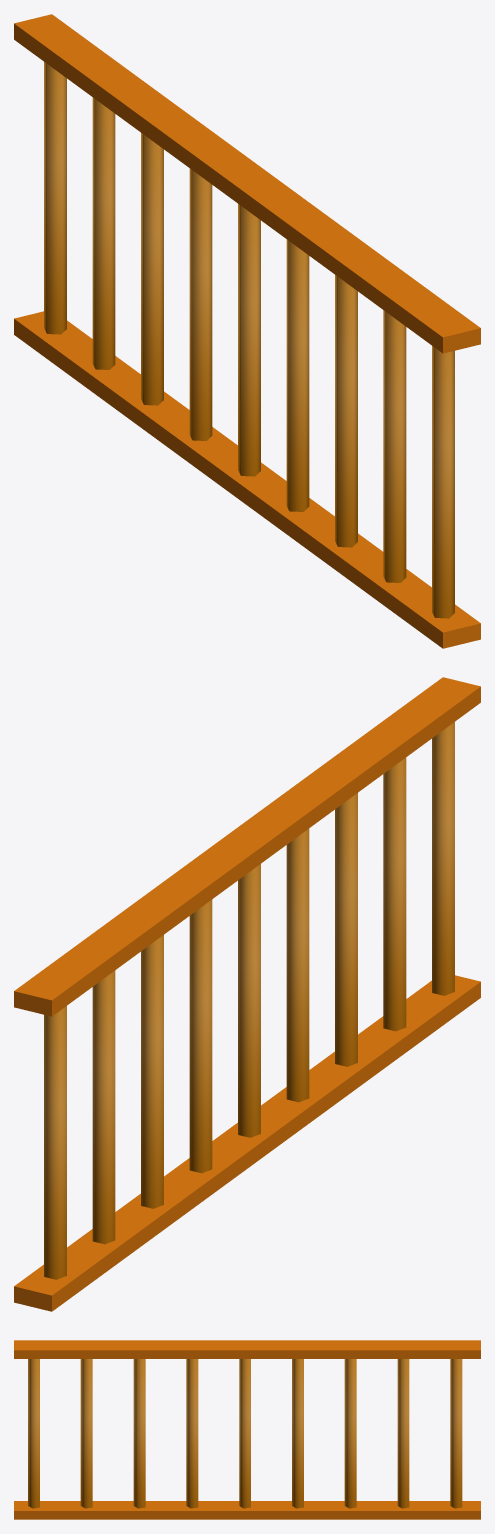
The model's file is Barrera.FBX.
3 renders of one model, top to bottom at view 1: azimuth 30°, elevation 25°; view 2: azimuth 150°, elevation 25°; view 3: azimuth 270°, elevation 25°, orthographic. The views are drawn at different scales.
Parts seen in each view (by area): view 1: Box003; view 2: Box003; view 3: Box003.
Boxes of the visible parts, x1,y1,x2,y2 form: Box003: (14,14,480,648); Box003: (14,677,480,1311); Box003: (14,1340,480,1519).
Size of the model in its own units: 9.11 by 71.36 by 178.
